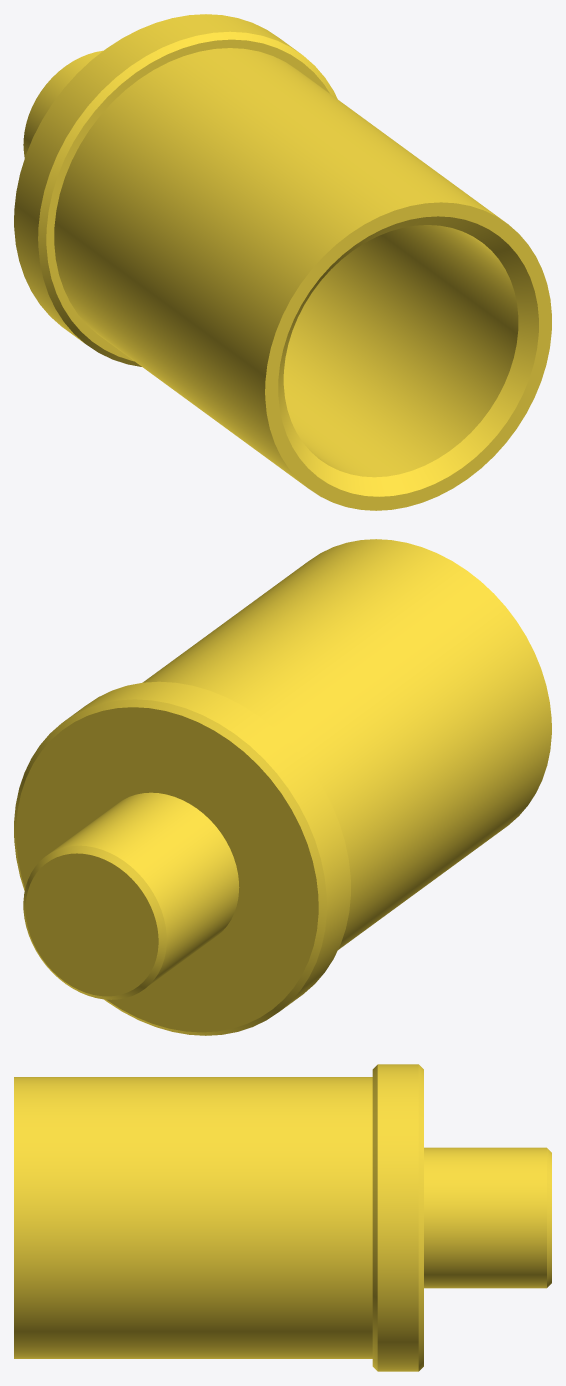
The model's file is REV_11_2159_P11_2__REV_11_2159_P11_2.gltf.
3 renders of one model, top to bottom at view 1: azimuth 30°, elevation 25°; view 2: azimuth 150°, elevation 25°; view 3: azimuth 270°, elevation 25°, orthographic. The views are drawn at different scales.
Parts seen in each view (by area): view 1: mesh91409, mesh91412, mesh91410, mesh91406, mesh91411, mesh91407, mesh91408, mesh91403; view 2: mesh91409, mesh91404, mesh91403, mesh91401, mesh91406, mesh91405, mesh91402; view 3: mesh91409, mesh91403, mesh91406, mesh91405, mesh91407, mesh91402.
Part boxes in pixels (left/top/right/bottom): mesh91409: left=54, top=48, right=505, bottom=487; mesh91412: left=283, top=225, right=518, bottom=477; mesh91410: left=265, top=202, right=551, bottom=510; mesh91406: left=14, top=14, right=300, bottom=342; mesh91411: left=278, top=216, right=538, bottom=496; mesh91407: left=38, top=31, right=337, bottom=366; mesh91408: left=46, top=39, right=329, bottom=361; mesh91403: left=23, top=50, right=103, bottom=157; mesh91409: left=143, top=539, right=551, bottom=949; mesh91404: left=16, top=707, right=318, bottom=1032; mesh91403: left=48, top=792, right=239, bottom=986; mesh91401: left=25, top=853, right=158, bottom=996; mesh91406: left=64, top=681, right=350, bottom=1010; mesh91405: left=14, top=699, right=326, bottom=1035; mesh91402: left=23, top=845, right=166, bottom=999; mesh91409: left=14, top=1077, right=372, bottom=1358; mesh91403: left=424, top=1147, right=546, bottom=1288; mesh91406: left=377, top=1064, right=418, bottom=1371; mesh91405: left=418, top=1064, right=423, bottom=1371; mesh91407: left=372, top=1065, right=377, bottom=1370; mesh91402: left=547, top=1148, right=551, bottom=1287.
Size of the model in its own units: 0.006 by 0.006 by 0.0105.
